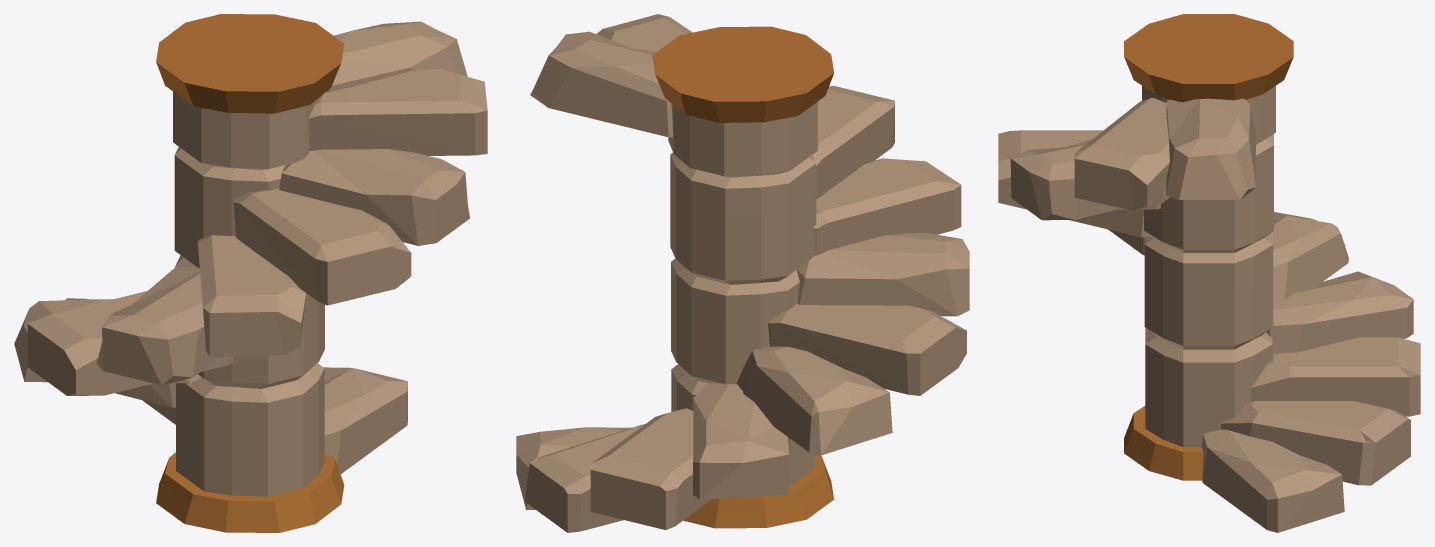
File: Staircase_stone_big_B.fbx
The picture shows the model from 3 angles, left to right: view 1: azimuth 30°, elevation 25°; view 2: azimuth 150°, elevation 25°; view 3: azimuth 270°, elevation 25°; orthographic projection. The views are drawn at different scales.
Visible parts, largest first — view 1: Staircase_stone_big_B; view 2: Staircase_stone_big_B; view 3: Staircase_stone_big_B.
Boxes of the visible parts, <box> form: Staircase_stone_big_B: <box>14,14,487,532</box>; Staircase_stone_big_B: <box>516,14,969,532</box>; Staircase_stone_big_B: <box>998,14,1420,532</box>.
Size of the model in its own units: 289 by 301 by 290.
